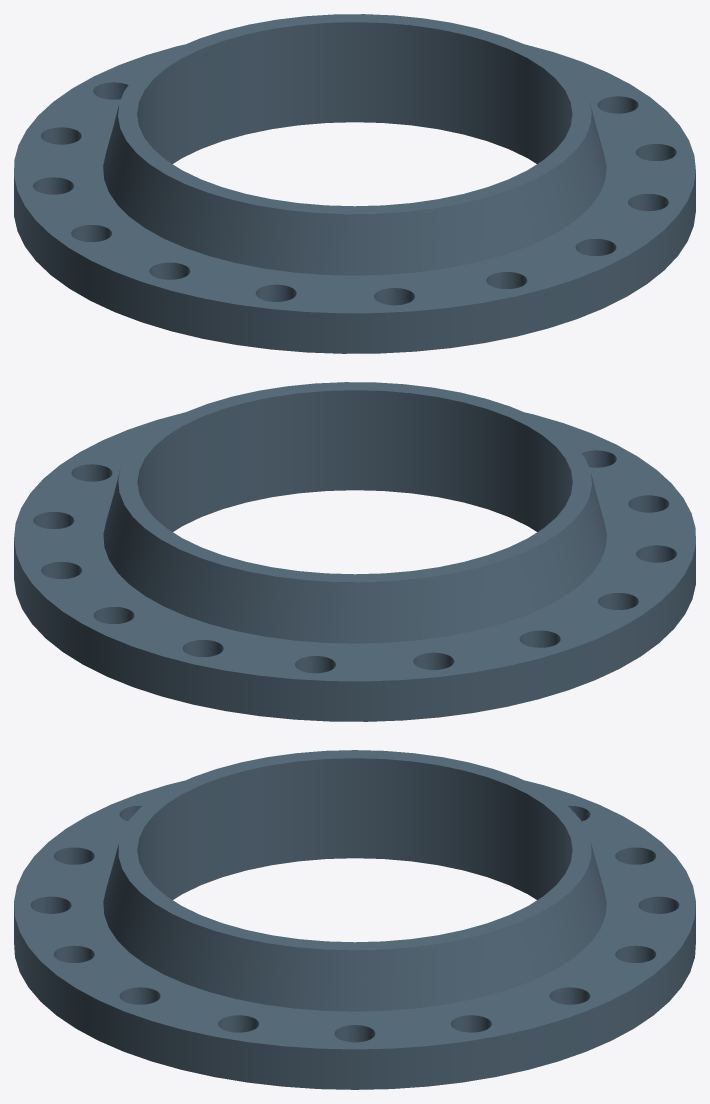
File: flanec-vorotnikovyj-DN350-PN25.glb
3 views of the same model, one above another, from view 1: azimuth 30°, elevation 25°; view 2: azimuth 150°, elevation 25°; view 3: azimuth 270°, elevation 25° (orthographic).
Visible parts, largest first — view 1: Open CASCADE STEP translator 7.9 99; view 2: Open CASCADE STEP translator 7.9 99; view 3: Open CASCADE STEP translator 7.9 99.
Part boxes in pixels (left/top/right/bottom): Open CASCADE STEP translator 7.9 99: left=14, top=14, right=695, bottom=353; Open CASCADE STEP translator 7.9 99: left=14, top=382, right=695, bottom=721; Open CASCADE STEP translator 7.9 99: left=14, top=750, right=695, bottom=1089.
Size of the model in its own units: 550 by 89 by 550.
